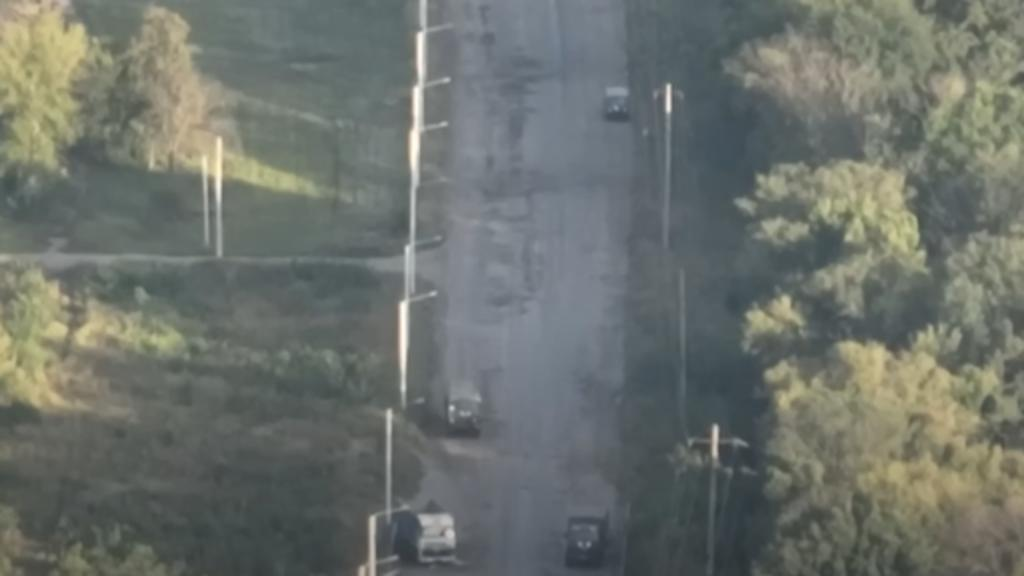CAR: (436, 372, 486, 436), (560, 502, 608, 568), (598, 78, 630, 122)
TRUCK: (394, 492, 460, 566)
